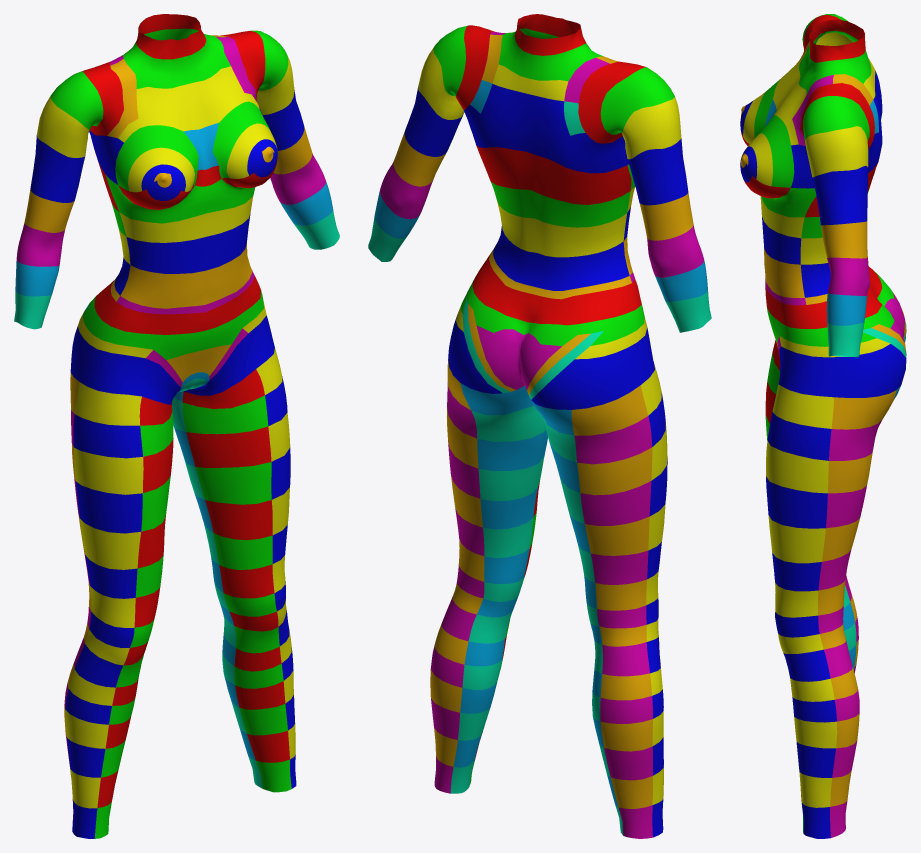
Rendered from OSRuth2_03_alphacutStatic4HUD.dae.
3 renders of one model, left to right at view 1: azimuth 30°, elevation 25°; view 2: azimuth 150°, elevation 25°; view 3: azimuth 270°, elevation 25°, orthographic. The views are drawn at different scales.
Parts seen in each view (by area): view 1: body_09_lower_pelvis_front_001, body_04_upper_belly_001, body_01_upper_arm_R_001, body_03_upper_chest_001, body_02_upper_arm_L_001, body_22_lower_leg_L2_001, body_12_lower_leg_R2_001, body_11_lower_leg_R1_001, body_05_upper_breast_R_001, body_21_lower_leg_L1_001, body_23_lower_leg_L3_001, body_13_lower_leg_R3_001 (+14 smaller); view 2: body_10_lower_pelvis_back_001, body_08_upper_back_bottom_001, body_01_upper_arm_R_001, body_07_upper_back_top_001, body_02_upper_arm_L_001, body_11_lower_leg_R1_001, body_12_lower_leg_R2_001, body_22_lower_leg_L2_001, body_13_lower_leg_R3_001, body_23_lower_leg_L3_001, body_21_lower_leg_L1_001, body_17_lower_leg_R7_001 (+11 smaller); view 3: body_02_upper_arm_L_001, body_21_lower_leg_L1_001, body_22_lower_leg_L2_001, body_10_lower_pelvis_back_001, body_23_lower_leg_L3_001, body_03_upper_chest_001, body_04_upper_belly_001, body_09_lower_pelvis_front_001, body_27_lower_leg_L7_001, body_06_upper_breast_L_001, body_24_lower_leg_L4_001, body_07_upper_back_top_001 (+9 smaller).
Boxes of the visible parts, <box> form: body_09_lower_pelvis_front_001: <box>79,275,274,404</box>; body_04_upper_belly_001: <box>106,165,255,314</box>; body_01_upper_arm_R_001: <box>14,62,123,329</box>; body_03_upper_chest_001: <box>95,22,261,184</box>; body_02_upper_arm_L_001: <box>221,30,339,249</box>; body_22_lower_leg_L2_001: <box>173,410,290,504</box>; body_12_lower_leg_R2_001: <box>72,439,173,533</box>; body_11_lower_leg_R1_001: <box>70,373,173,458</box>; body_05_upper_breast_R_001: <box>115,125,198,209</box>; body_21_lower_leg_L1_001: <box>172,348,287,434</box>; body_23_lower_leg_L3_001: <box>194,487,289,569</box>; body_13_lower_leg_R3_001: <box>78,513,166,598</box>; body_10_lower_pelvis_back_001: <box>448,255,640,409</box>; body_08_upper_back_bottom_001: <box>476,145,631,299</box>; body_01_upper_arm_R_001: <box>578,61,711,332</box>; body_07_upper_back_top_001: <box>464,16,627,173</box>; body_02_upper_arm_L_001: <box>368,25,494,261</box>; body_11_lower_leg_R1_001: <box>531,364,665,464</box>; body_12_lower_leg_R2_001: <box>549,422,667,525</box>; body_22_lower_leg_L2_001: <box>447,407,547,501</box>; body_13_lower_leg_R3_001: <box>569,499,665,584</box>; body_23_lower_leg_L3_001: <box>451,475,539,557</box>; body_21_lower_leg_L1_001: <box>447,359,545,441</box>; body_17_lower_leg_R7_001: <box>593,711,663,780</box>; body_02_upper_arm_L_001: <box>800,83,874,357</box>; body_21_lower_leg_L1_001: <box>767,384,900,460</box>; body_22_lower_leg_L2_001: <box>766,440,872,528</box>; body_10_lower_pelvis_back_001: <box>806,266,906,397</box>; body_23_lower_leg_L3_001: <box>768,515,859,591</box>; body_03_upper_chest_001: <box>765,20,836,188</box>; body_04_upper_belly_001: <box>760,188,816,305</box>; body_09_lower_pelvis_front_001: <box>765,286,834,397</box>; body_27_lower_leg_L7_001: <box>794,714,859,777</box>; body_06_upper_breast_L_001: <box>740,115,794,198</box>; body_24_lower_leg_L4_001: <box>775,580,845,637</box>; body_07_upper_back_top_001: <box>829,19,882,172</box>.
Size of the model in its own units: 0.6489 by 0.2968 by 1.48.
